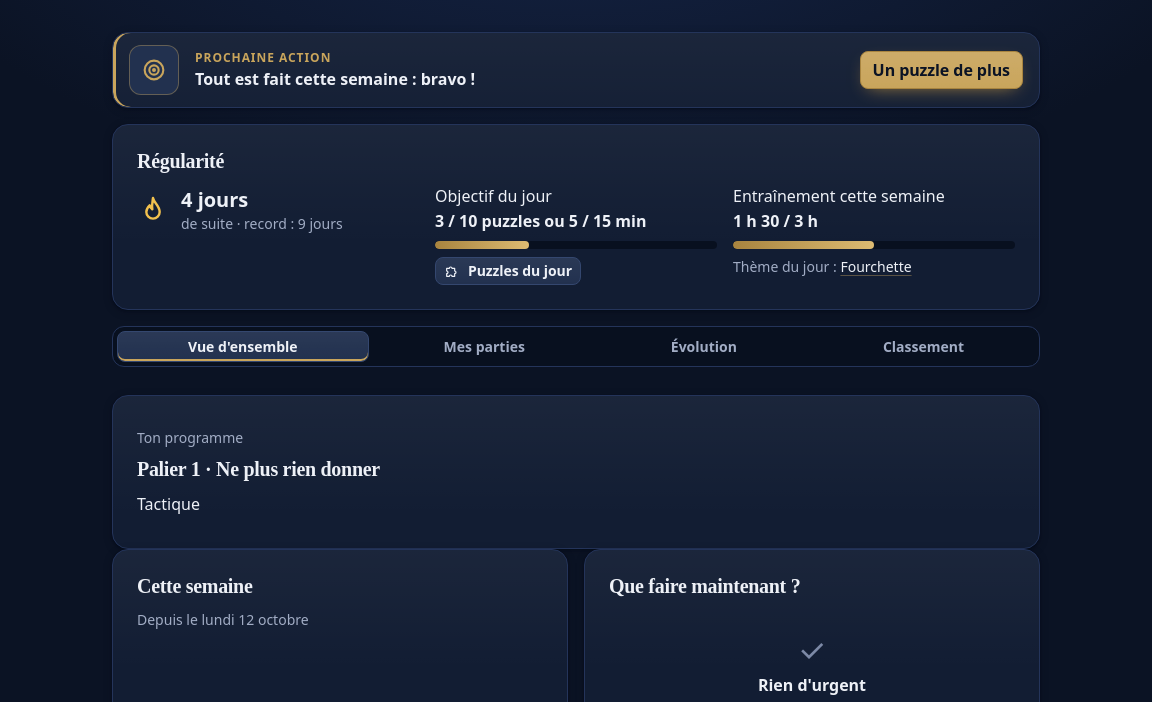
Test: Coach : profil (lot 4d) › nouveaux types d’erreurs et répartition zeitnot / avec du temps
Click the tab with test id "progress-tab-games": (484, 347) [373,331,596,362]
(page scrolled)
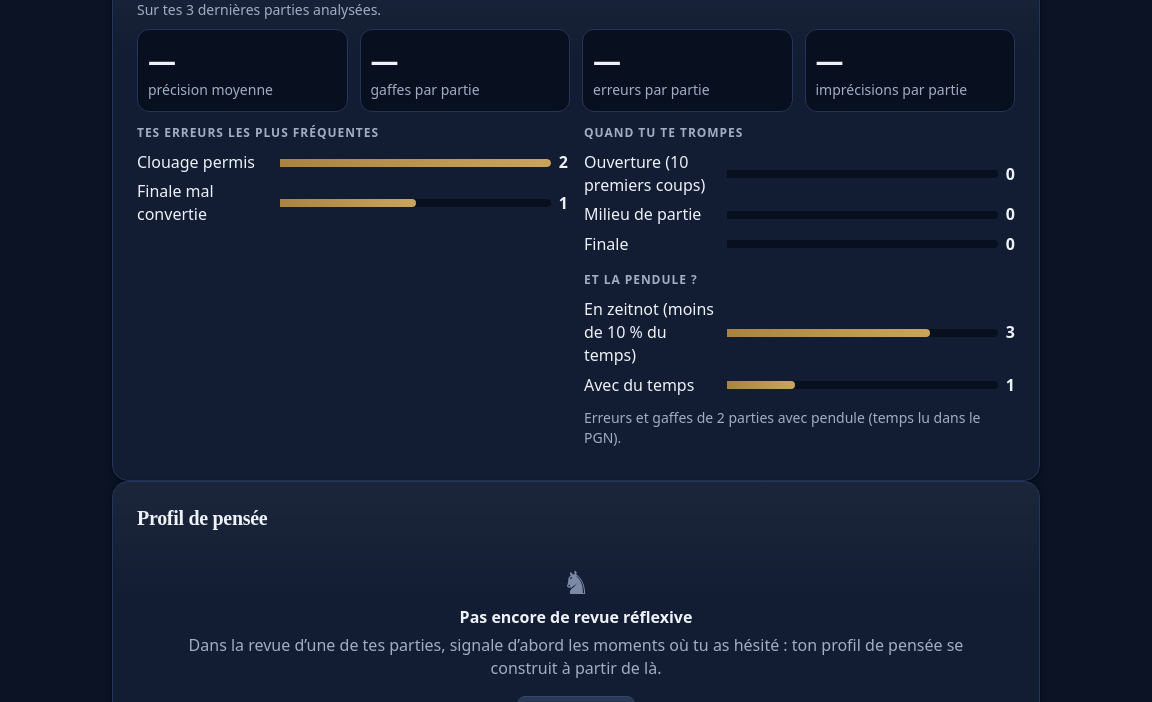
Now the element with test id "coach-weaknesses" shows "Clouage permis", box [137,151,255,173]
Now the element with test id "coach-weaknesses" shows "Finale mal convertie", box [137,180,214,225]
Now the element with test id "coach-clock" shows "2 parties avec pendule", box [584,273,1015,448]
